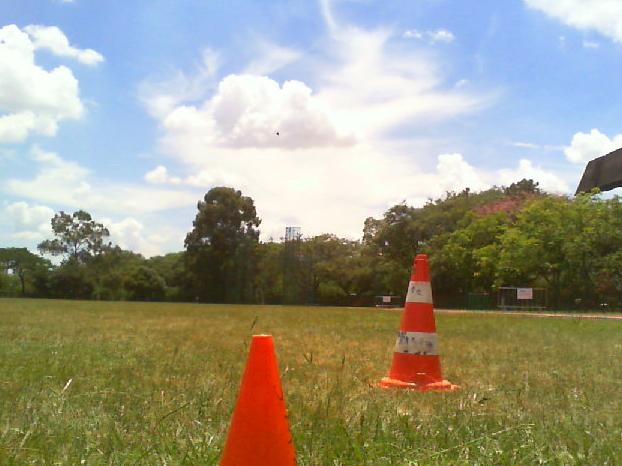0 cone: (371, 256, 460, 392), (217, 335, 297, 466)
